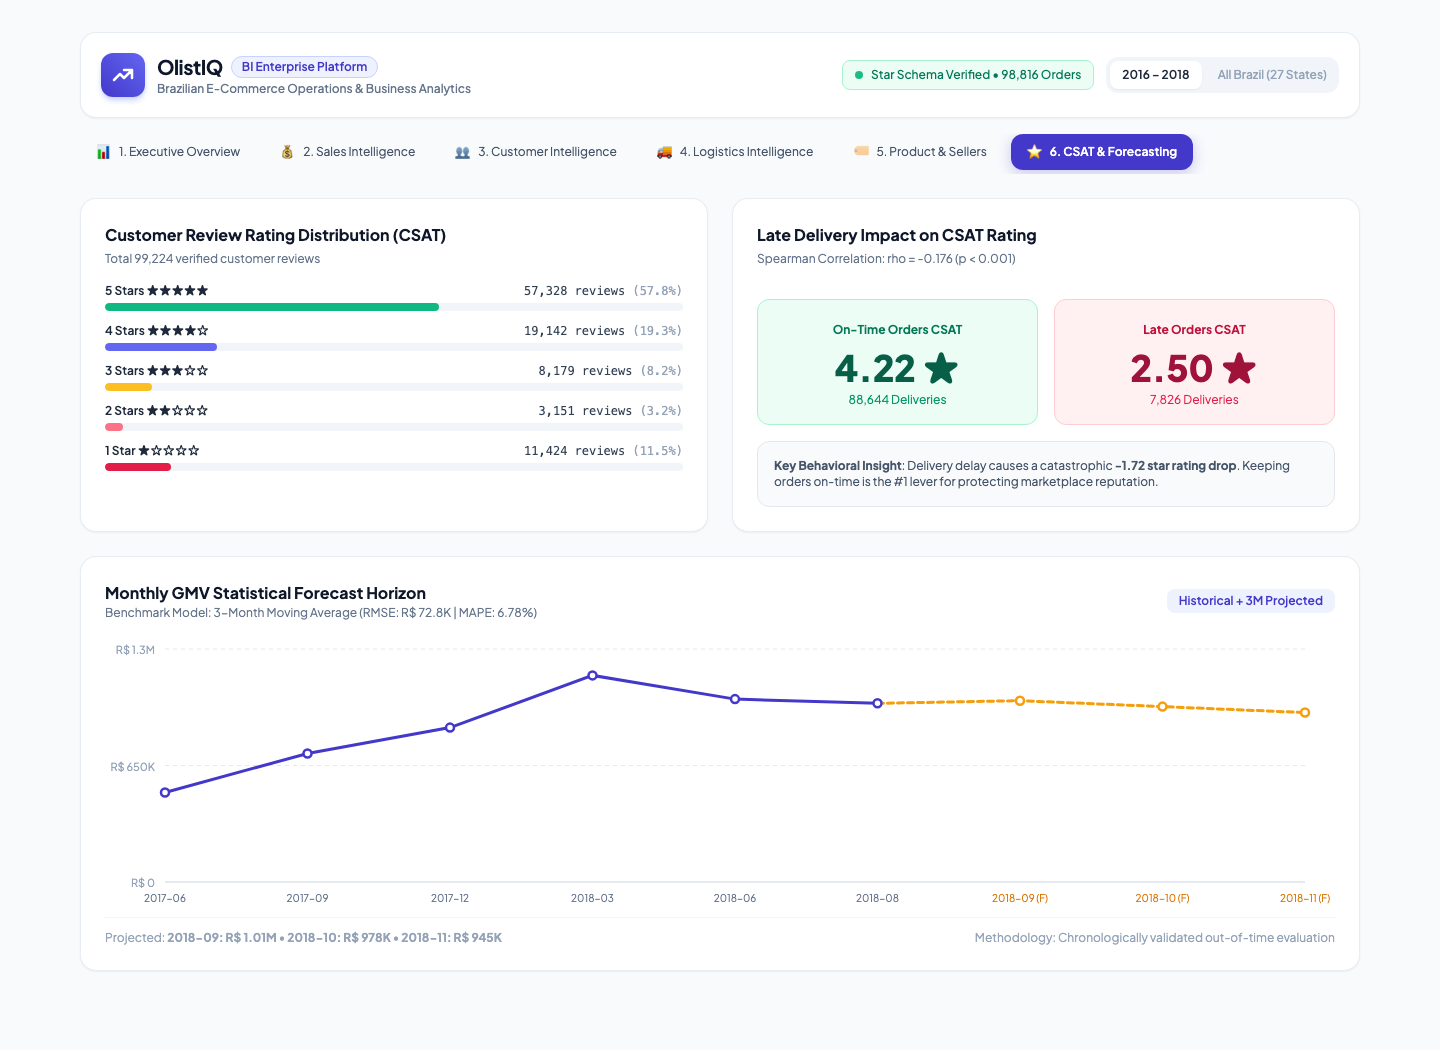

The dashboard page shown, as its layout file describes it:
{"tool":"tableau","page":{"name":"6_Customer_Experience","canvas":[1400,900],"ordinal":5},"visuals":[{"type":"title","box":[0,0,1400,72]},{"type":"widget","title":"CSAT_Distribution_Delay_Impact","box":[0,90,1400,792]}]}

Visuals, with their boxes on the page's 1400x900 design canvas (x1, y1, x2, y2). These are canvas units, not pixel positions in the 1440x1050 screenshot, which may show the page scaled, cropped or inside an application window:
title: crop(0, 0, 1400, 72)
"CSAT_Distribution_Delay_Impact" widget: crop(0, 90, 1400, 882)
